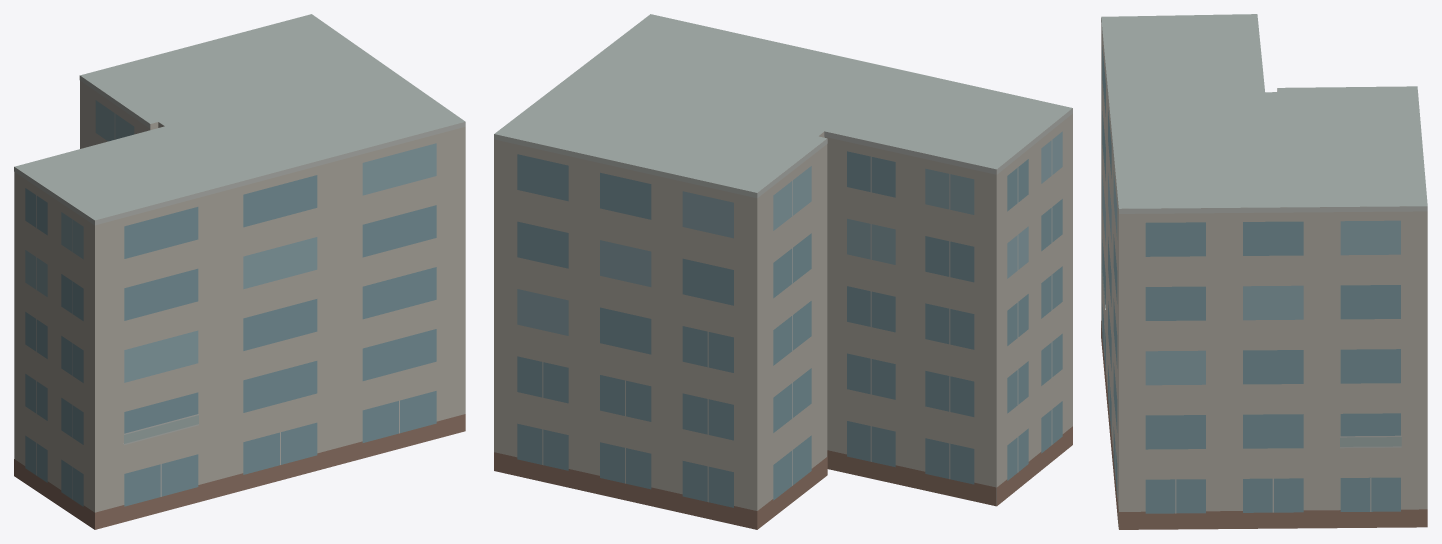
The model's file is survey-upis-32732903.glb.
3 renders of one model, left to right at view 1: azimuth 30°, elevation 25°; view 2: azimuth 150°, elevation 25°; view 3: azimuth 270°, elevation 25°, orthographic. The views are drawn at different scales.
Visible parts, largest first — view 1: survey-upis-32732903.tmp; view 2: survey-upis-32732903.tmp; view 3: survey-upis-32732903.tmp.
Part boxes in pixels (box(x1,y1,x2,y2)): survey-upis-32732903.tmp: box(14, 14, 465, 529); survey-upis-32732903.tmp: box(494, 14, 1072, 529); survey-upis-32732903.tmp: box(1101, 14, 1427, 529).
Size of the model in its own units: 19.85 by 15.25 by 14.07.
